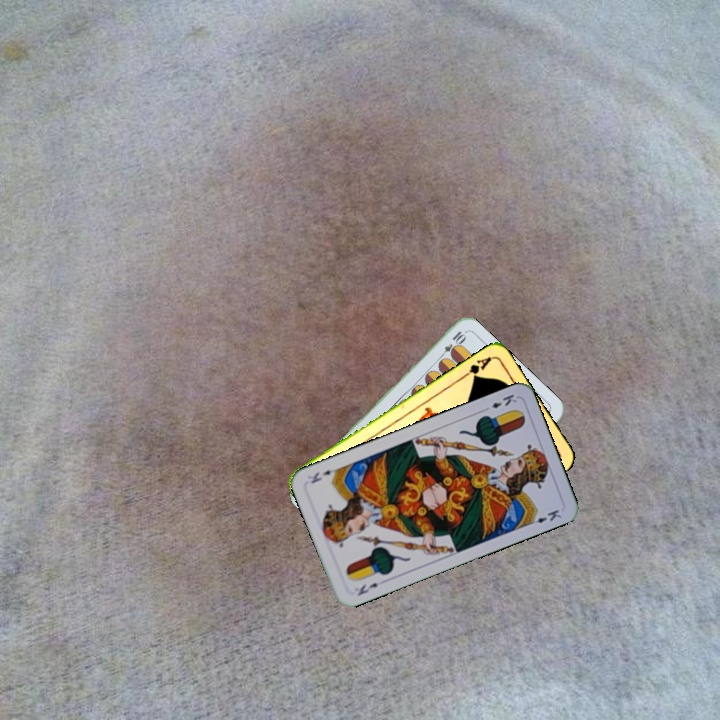E10: (435, 327, 468, 362)
EK: (479, 390, 519, 414), (353, 579, 381, 598)
GA: (458, 352, 494, 382)
